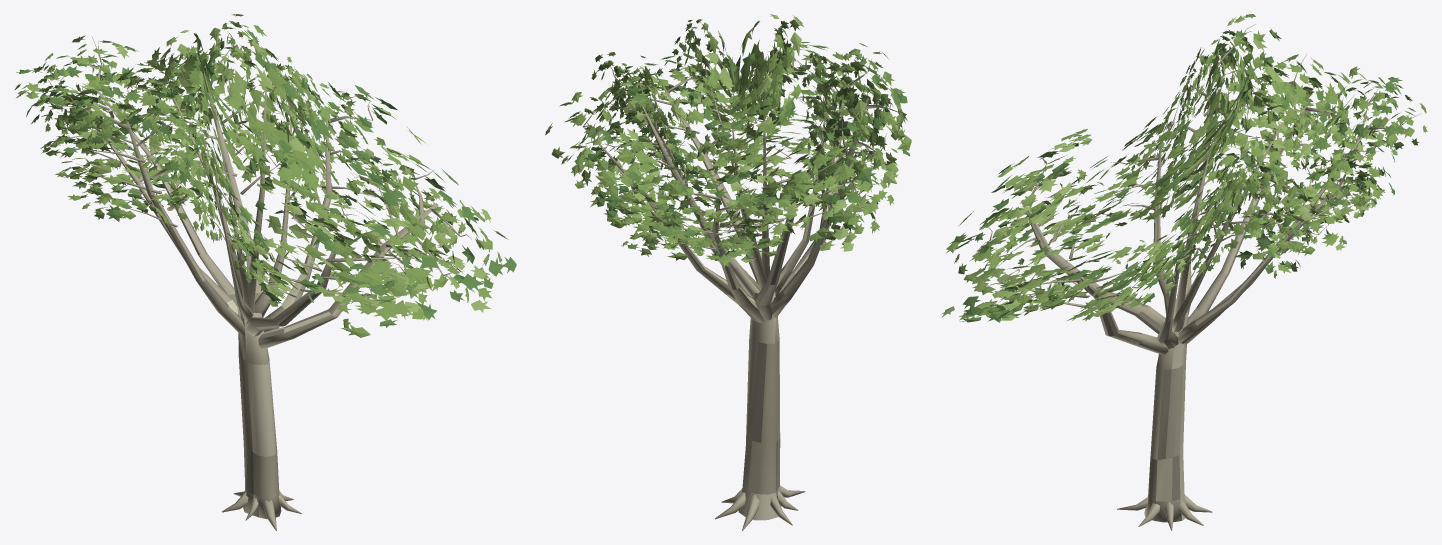
3 views of the same model, side by side, from view 1: azimuth 30°, elevation 25°; view 2: azimuth 150°, elevation 25°; view 3: azimuth 270°, elevation 25° (orthographic). The views are drawn at different scales.
Visible parts, largest first — view 1: tree_plane_b_PlaneLeaf, tree_plane_b_PlaneBark, tree_plane_b_PlaneLeafDark, tree_plane_b_PlaneLeafLight, tree_plane_b_PlaneBarkPale, tree_plane_b_PlaneBarkBrown; view 2: tree_plane_b_PlaneLeaf, tree_plane_b_PlaneBark, tree_plane_b_PlaneLeafLight, tree_plane_b_PlaneLeafDark, tree_plane_b_PlaneBarkPale, tree_plane_b_PlaneBarkBrown; view 3: tree_plane_b_PlaneLeaf, tree_plane_b_PlaneBark, tree_plane_b_PlaneLeafLight, tree_plane_b_PlaneLeafDark, tree_plane_b_PlaneBarkPale, tree_plane_b_PlaneBarkBrown.
Part boxes in pixels (left/top/right/bottom): tree_plane_b_PlaneLeaf: left=18, top=14, right=502, bottom=337; tree_plane_b_PlaneBark: left=42, top=31, right=471, bottom=530; tree_plane_b_PlaneLeafDark: left=16, top=29, right=516, bottom=327; tree_plane_b_PlaneLeafLight: left=14, top=23, right=508, bottom=320; tree_plane_b_PlaneBarkPale: left=87, top=80, right=437, bottom=517; tree_plane_b_PlaneBarkBrown: left=153, top=162, right=335, bottom=493; tree_plane_b_PlaneLeaf: left=545, top=15, right=911, bottom=263; tree_plane_b_PlaneBark: left=583, top=51, right=908, bottom=530; tree_plane_b_PlaneLeafLight: left=551, top=14, right=900, bottom=267; tree_plane_b_PlaneLeafDark: left=582, top=20, right=910, bottom=260; tree_plane_b_PlaneBarkPale: left=621, top=98, right=869, bottom=520; tree_plane_b_PlaneBarkBrown: left=641, top=86, right=843, bottom=491; tree_plane_b_PlaneLeaf: left=945, top=16, right=1427, bottom=321; tree_plane_b_PlaneBark: left=976, top=24, right=1421, bottom=530; tree_plane_b_PlaneLeafLight: left=941, top=17, right=1412, bottom=320; tree_plane_b_PlaneLeafDark: left=949, top=14, right=1415, bottom=322; tree_plane_b_PlaneBarkPale: left=1021, top=70, right=1344, bottom=520; tree_plane_b_PlaneBarkBrown: left=1022, top=102, right=1372, bottom=500.
Size of the model in its own units: 12.36 by 15.92 by 15.36.
